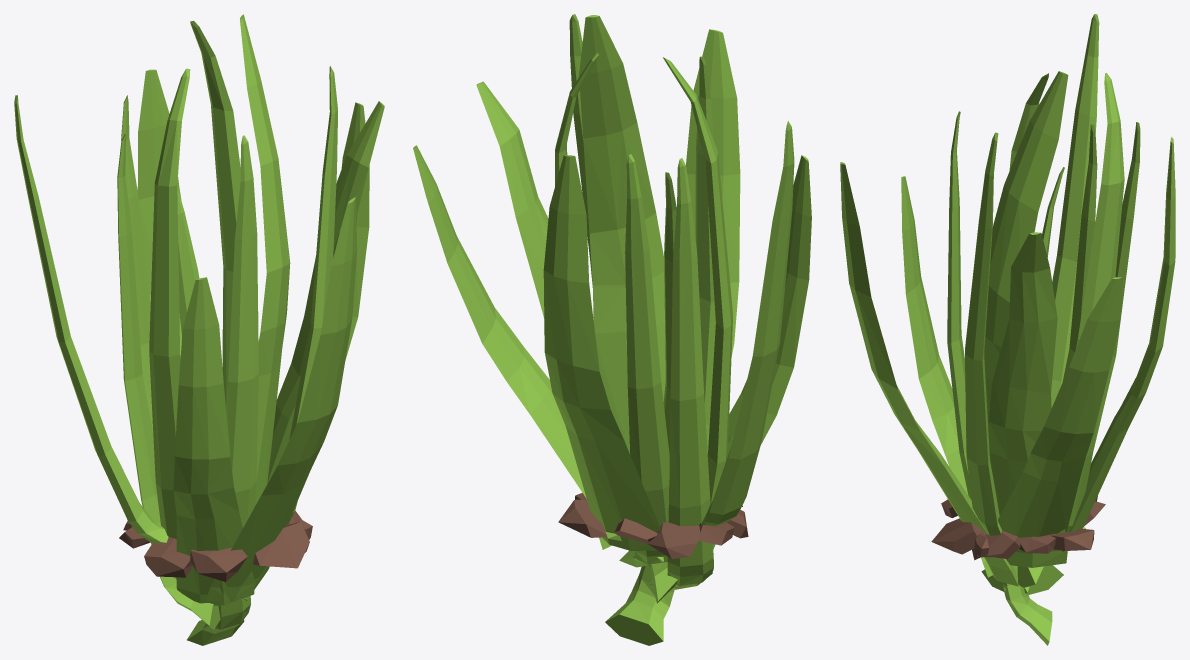
Rendered from Grass.fbx.
The picture shows the model from 3 angles, left to right: view 1: azimuth 30°, elevation 25°; view 2: azimuth 150°, elevation 25°; view 3: azimuth 270°, elevation 25°; orthographic projection. The views are drawn at different scales.
Parts seen in each view (by area): view 1: group1699085095; view 2: group1699085095; view 3: group1699085095.
Part boxes in pixels (x1,y1,x2,y2): group1699085095: (14,14,384,645); group1699085095: (413,14,811,645); group1699085095: (840,14,1175,645).
Size of the model in its own units: 177 by 289 by 150.
